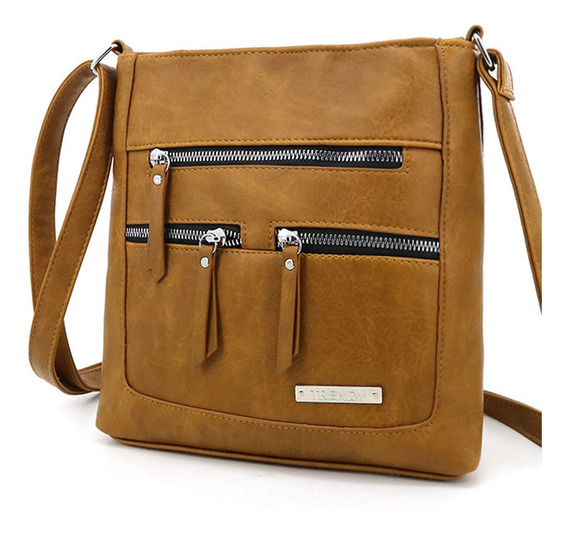cartera: (26, 27, 488, 483)
